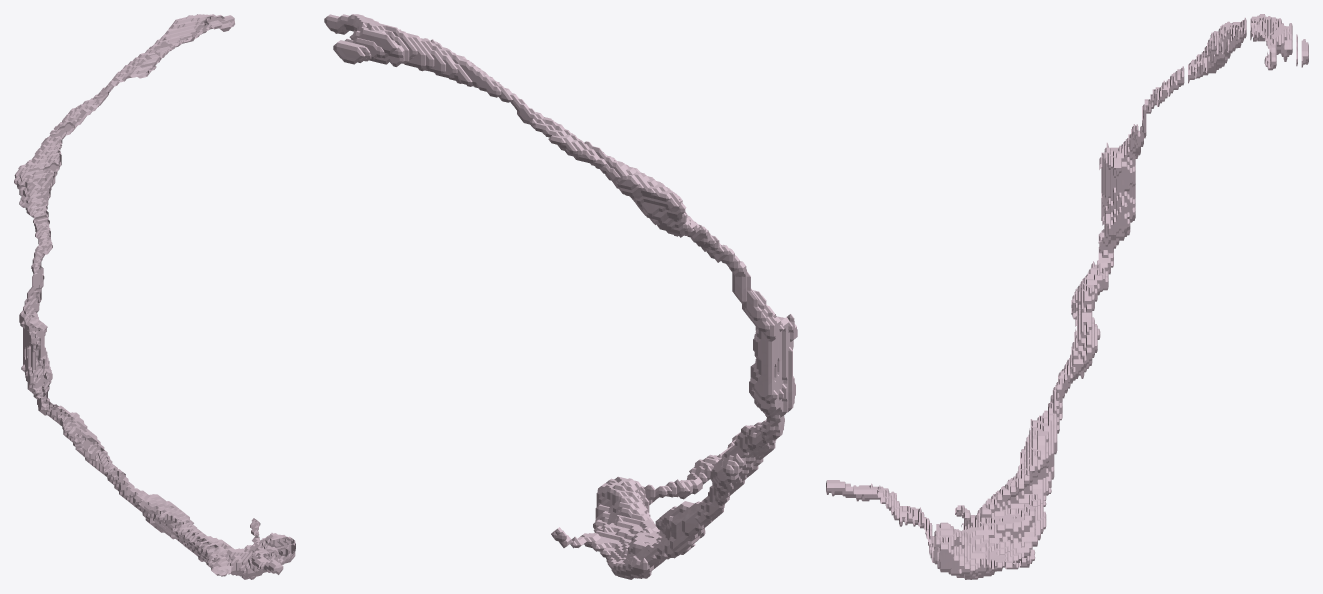
The model's file is SVV_AIYL.gltf.
The picture shows the model from 3 angles, left to right: view 1: azimuth 30°, elevation 25°; view 2: azimuth 150°, elevation 25°; view 3: azimuth 270°, elevation 25°; orthographic projection. The views are drawn at different scales.
Parts seen in each view (by area): view 1: AIYL; view 2: AIYL; view 3: AIYL.
Part boxes in pixels (x1,y1,x2,y2): AIYL: (14,14,295,579); AIYL: (324,14,797,579); AIYL: (826,14,1308,579).
Bounding box in the file's own units: 56847 × 92207 × 68513.
